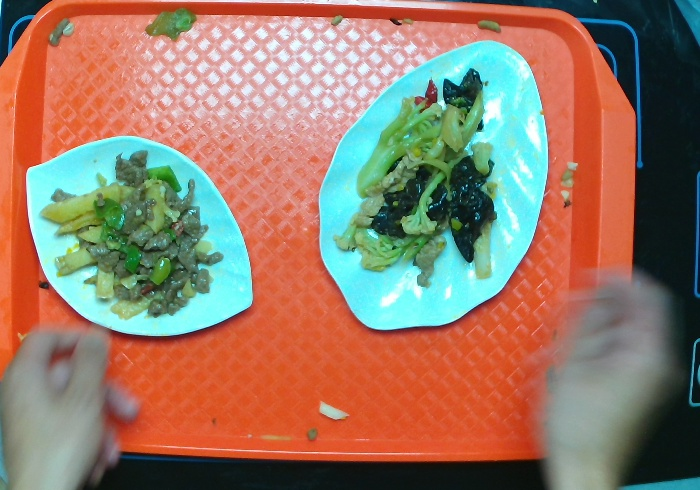RJxy-Bai_Ye_Pan: (307, 35, 553, 334)
RJxy-Da_Du_Pan: (17, 132, 258, 342)
